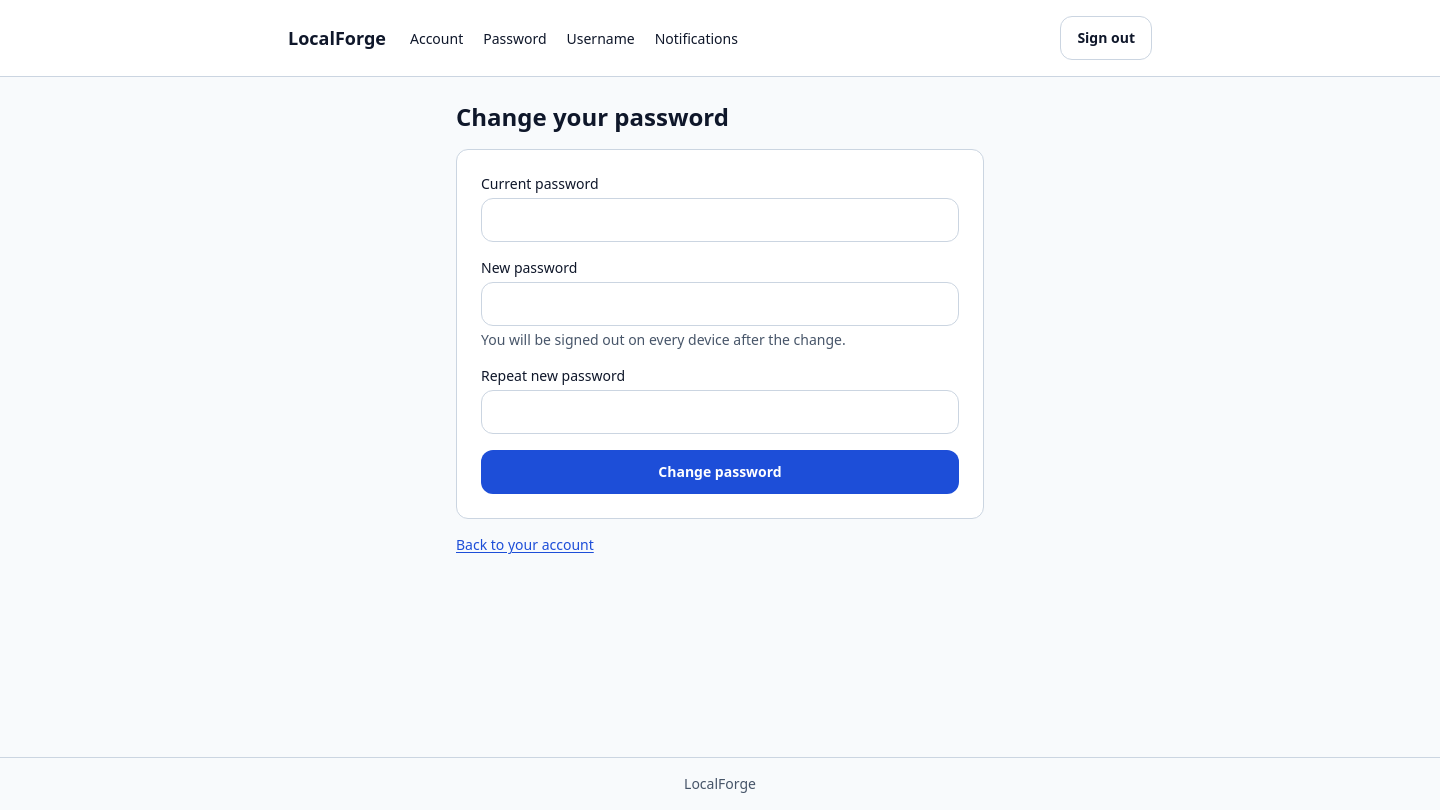
ChangePasswordPage › changes the password, ends the local session, and explains on the sign-in page
Type "old password" into the password field labelled "Current password" at (720, 220), box 481,198 -> 959,242
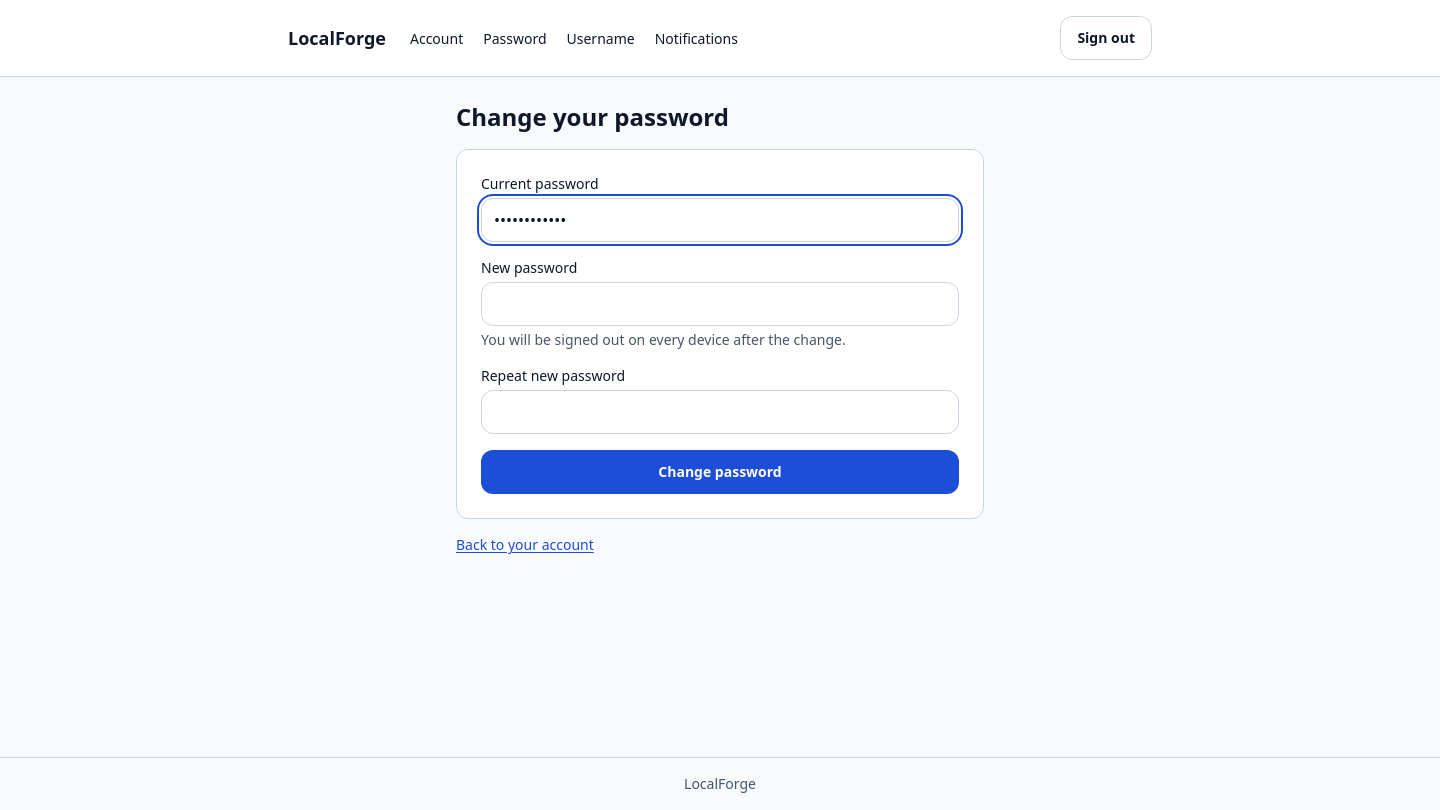
Type "fresh horse battery" into the password field labelled "New password" at (720, 304), box 481,282 -> 959,326
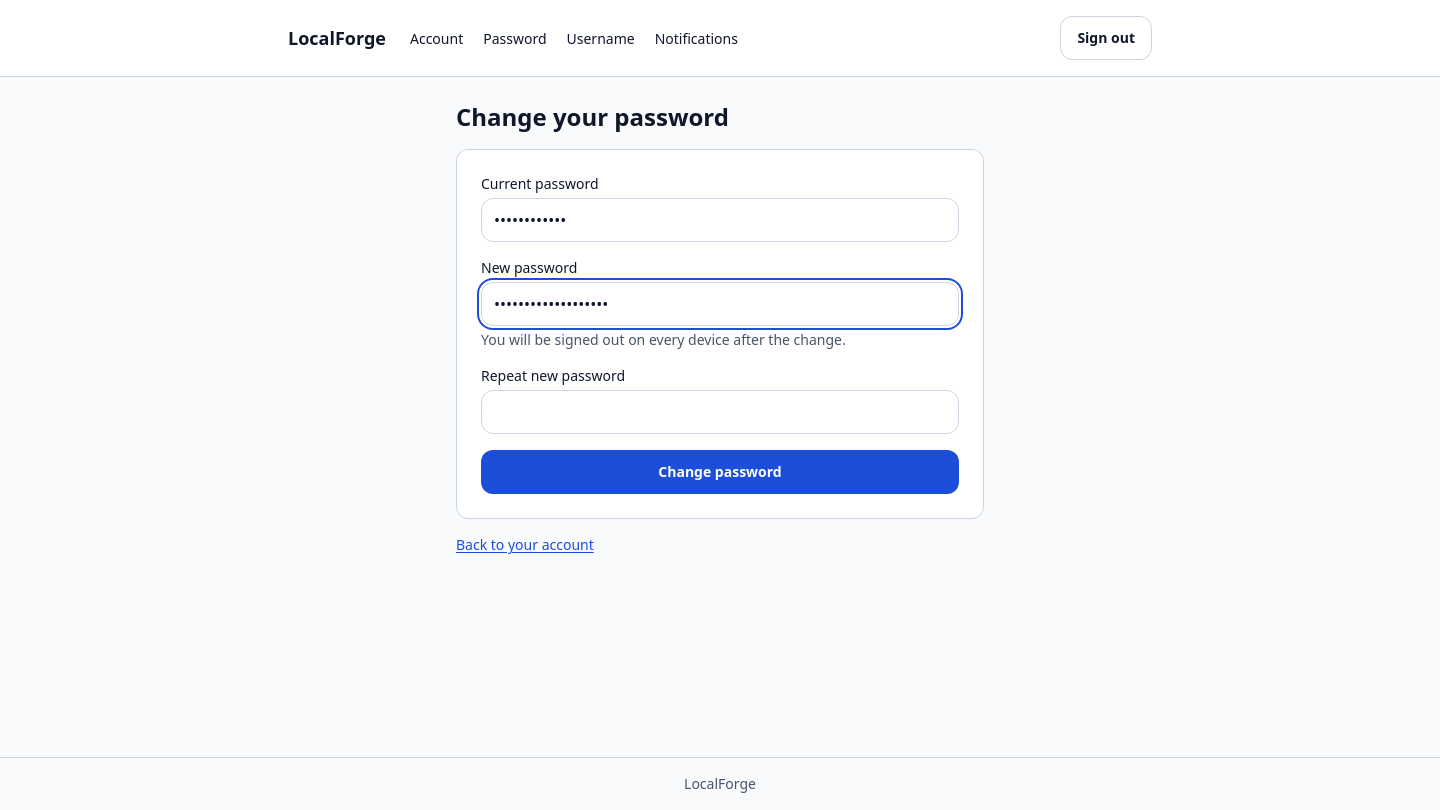
Type "fresh horse battery" into the password field labelled "Repeat new password" at (720, 412), box 481,390 -> 959,434
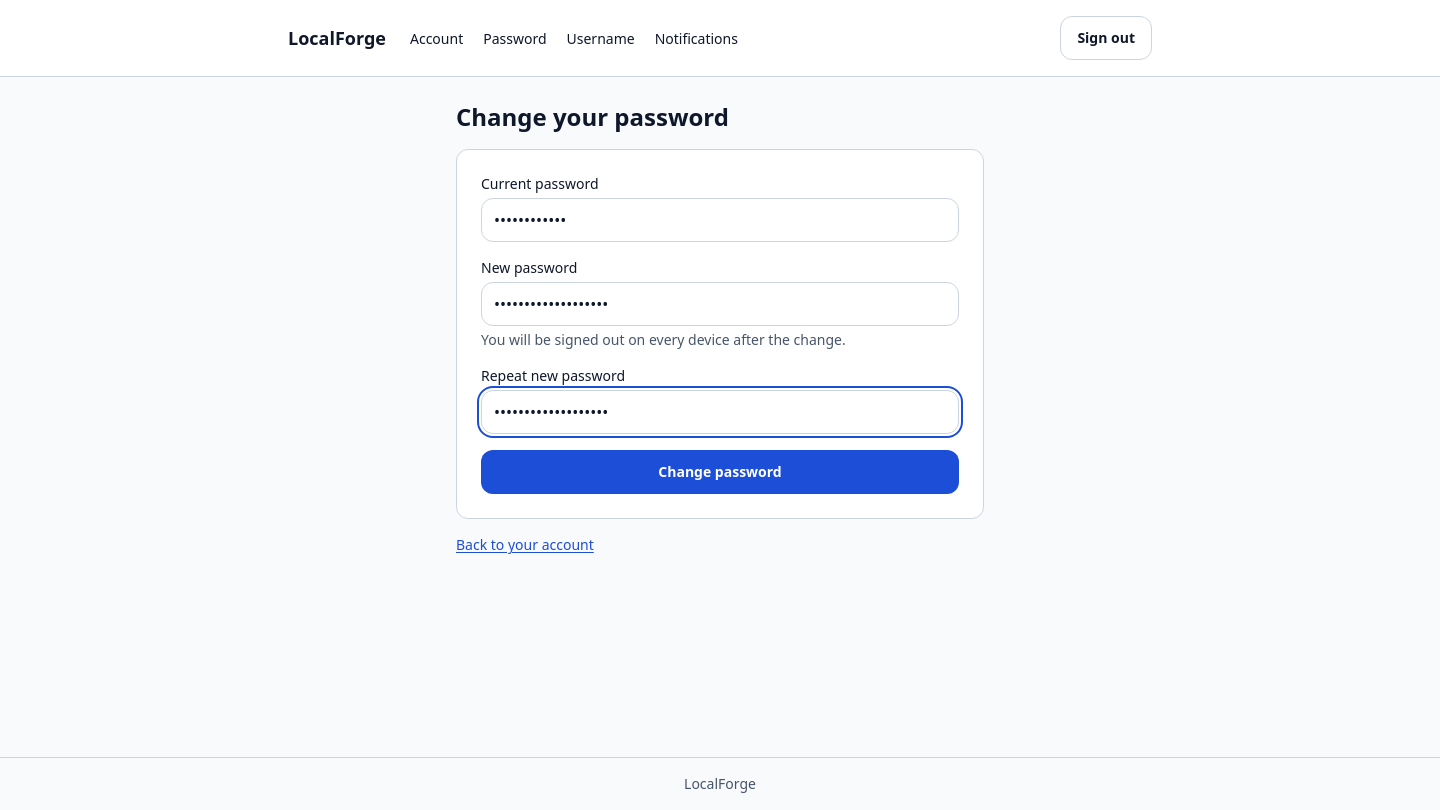
Click the button "Change password" at (720, 472), box 481,450 -> 959,494
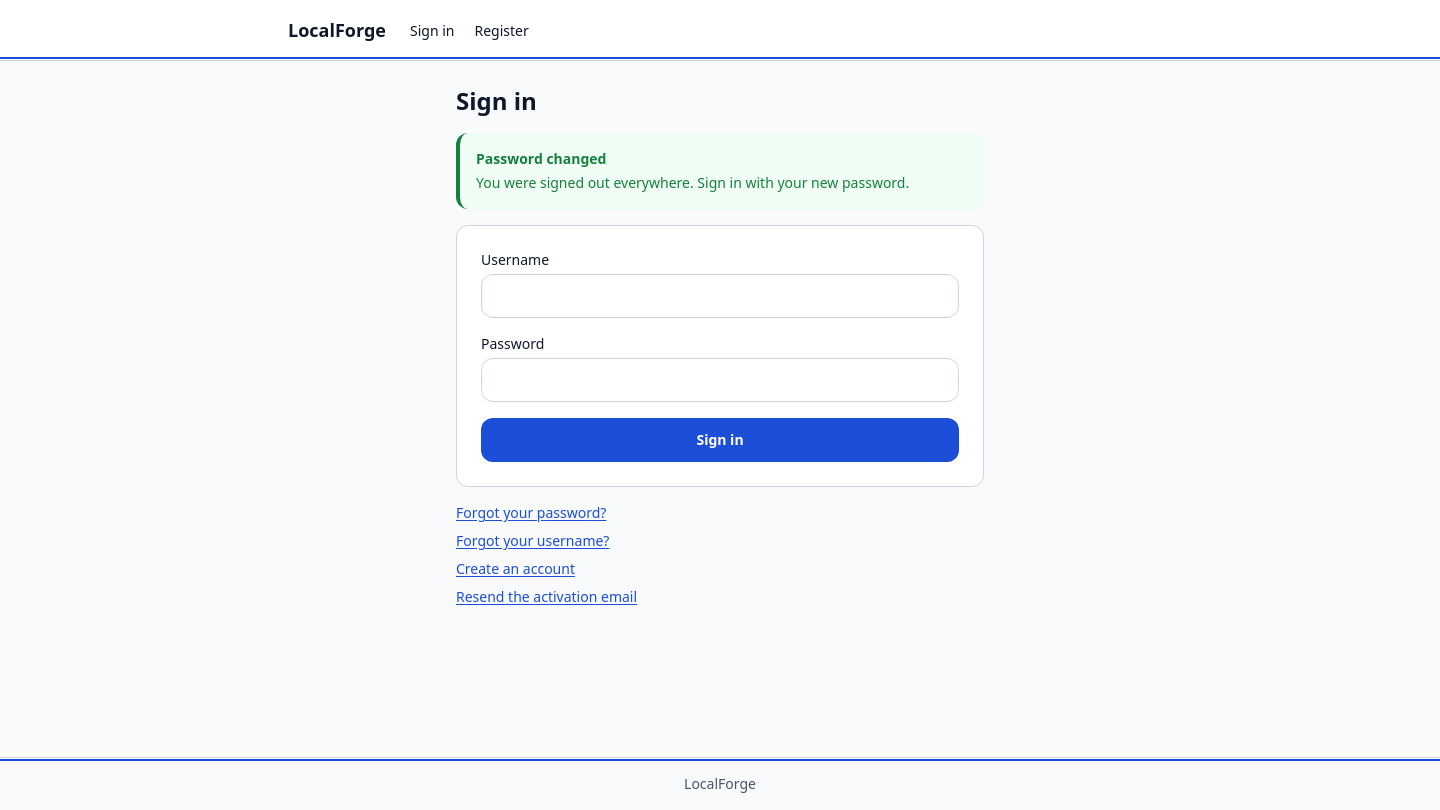
Check: the heading "Sign in" is shown, box 456,84 -> 537,117
Check: the text "Password changed" is shown, box 476,149 -> 606,168
Check: the text "signed out everywhere" is shown, box 476,173 -> 909,192
